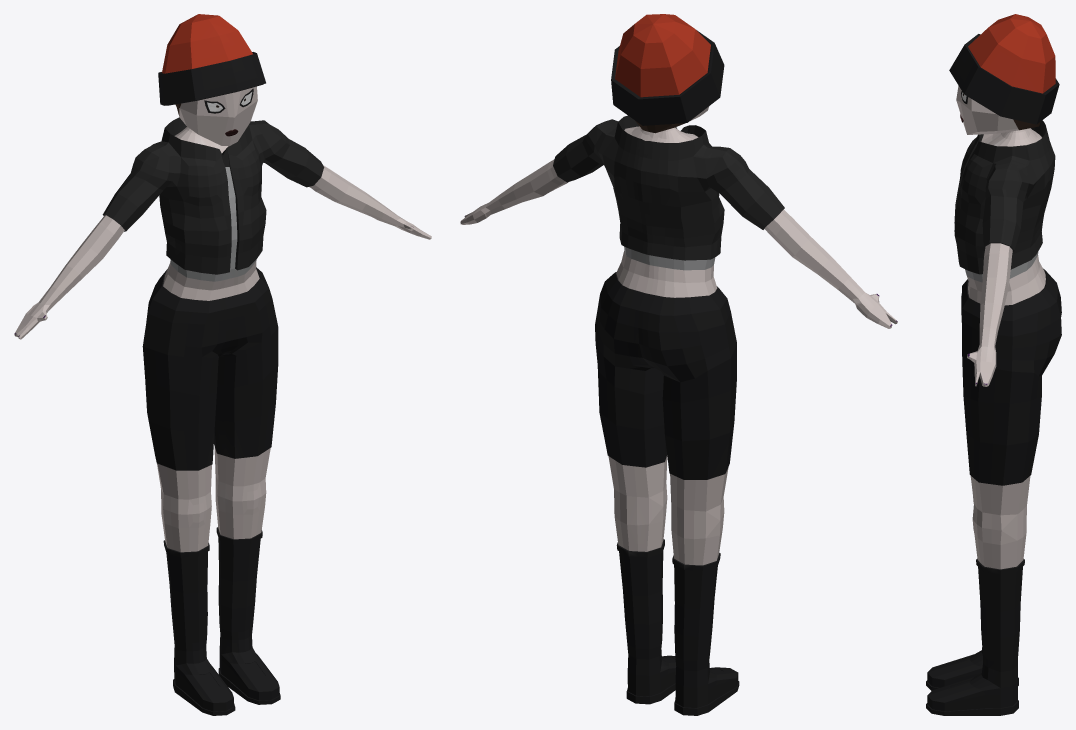
File: MatheusAlvarenga_Personagem1.fbx_Mesh.fbx
The picture shows the model from 3 angles, left to right: view 1: azimuth 30°, elevation 25°; view 2: azimuth 150°, elevation 25°; view 3: azimuth 270°, elevation 25°; orthographic projection. The views are drawn at different scales.
Visible parts, largest first — view 1: Personagem; view 2: Personagem; view 3: Personagem.
Boxes of the visible parts, <box> form: Personagem: <box>14,14,431,715</box>; Personagem: <box>460,14,897,715</box>; Personagem: <box>926,14,1061,715</box>.
Bounding box in the file's own units: 102 × 156 × 28.39.
